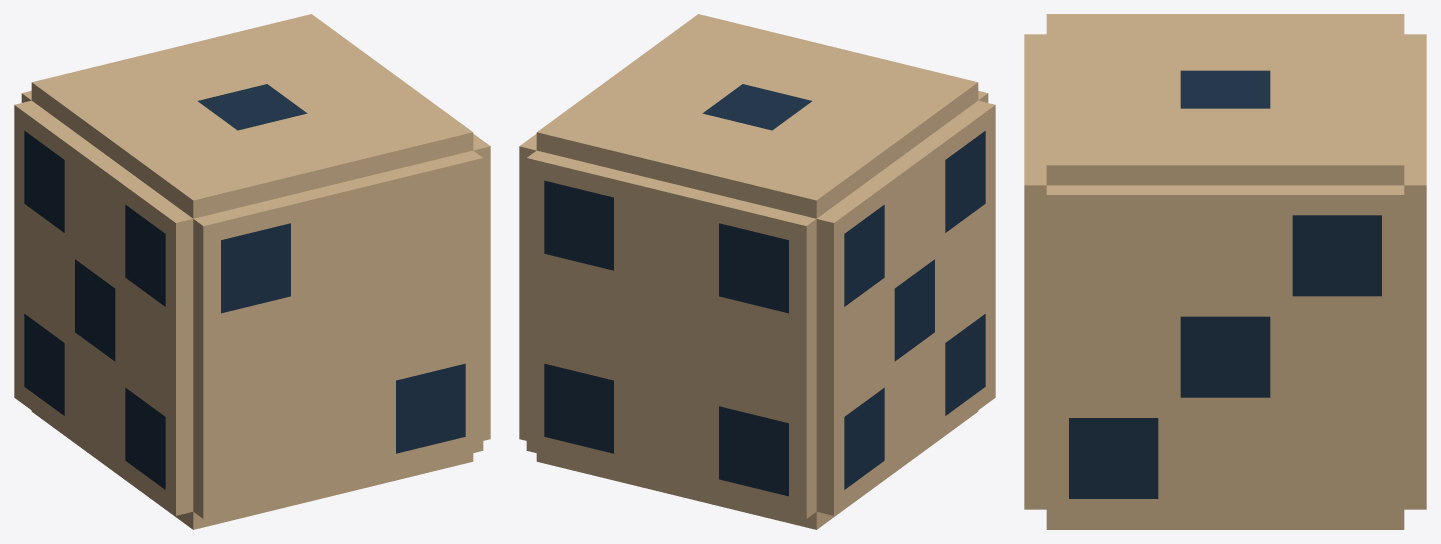
File: dice-v2-tan-blue.gltf
3 renders of one model, left to right at view 1: azimuth 30°, elevation 25°; view 2: azimuth 150°, elevation 25°; view 3: azimuth 270°, elevation 25°, orthographic. The views are drawn at different scales.
Visible parts, largest first — view 1: Untitled; view 2: Untitled; view 3: Untitled.
Boxes of the visible parts, left/top/right/bottom form: Untitled: left=14, top=14, right=490, bottom=529; Untitled: left=519, top=14, right=995, bottom=529; Untitled: left=1024, top=14, right=1426, bottom=529.
Bounding box in the file's own units: 1.8 × 1.8 × 1.8.
1 material, 1 textured.
